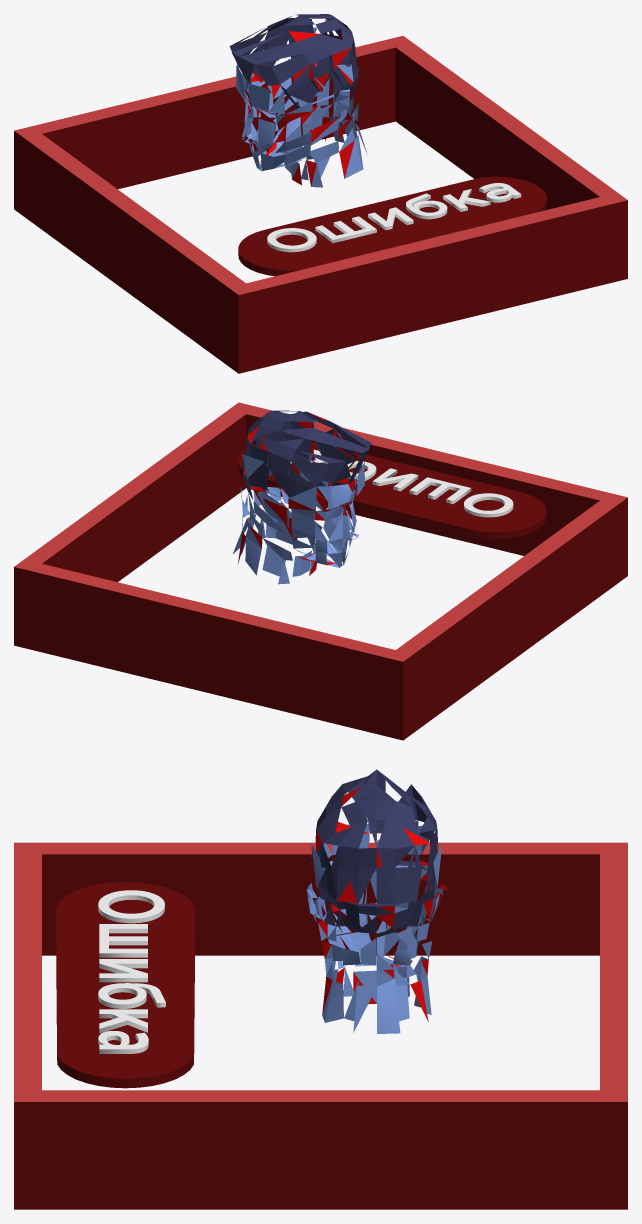
File: error.gltf
3 renders of one model, top to bottom at view 1: azimuth 30°, elevation 25°; view 2: azimuth 150°, elevation 25°; view 3: azimuth 270°, elevation 25°, orthographic. The views are drawn at different scales.
Parts seen in each view (by area): view 1: Border, CharacterModel.001, Circle, Text_Model; view 2: Border, CharacterModel.001, Circle, Text_Model; view 3: Border, CharacterModel.001, Circle, Text_Model.
Part boxes in pixels (x1,y1,x2,y2): Border: (14,36,627,373); CharacterModel.001: (229,14,367,187); Circle: (238,176,546,276); Text_Model: (267,183,521,252); Border: (14,402,627,740); CharacterModel.001: (233,410,371,584); Circle: (238,441,546,539); Text_Model: (290,449,513,517); Border: (14,842,627,1209); CharacterModel.001: (306,769,446,1033); Circle: (56,882,195,1088); Text_Model: (98,890,165,1053).
Bounding box in the file's own units: 2.2 × 1.13 × 2.2.
